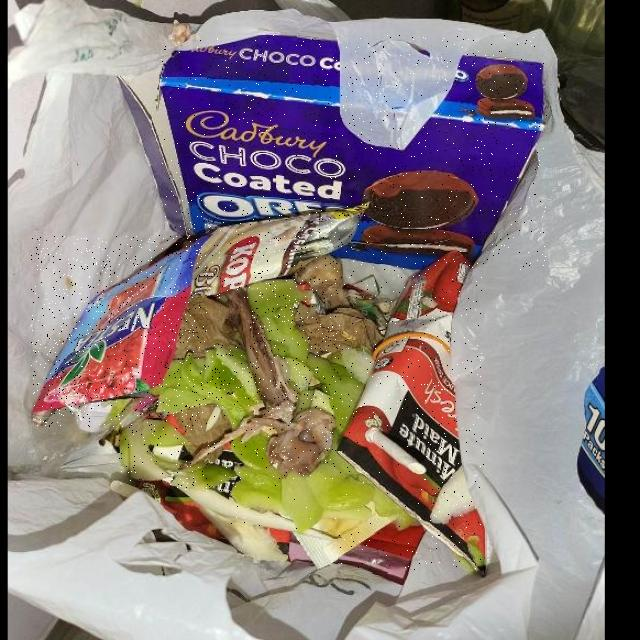biowaste: (247, 280, 373, 434), (230, 431, 414, 533), (207, 401, 336, 479), (150, 344, 264, 432), (120, 418, 189, 481), (171, 462, 236, 491)
paper: (160, 35, 547, 271), (338, 251, 484, 573)
wrapper: (31, 237, 207, 427), (190, 204, 369, 299)
